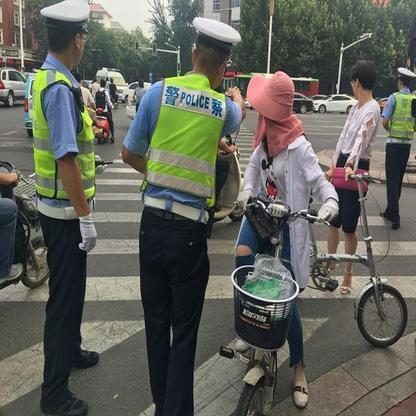target: (222, 71, 339, 410)
